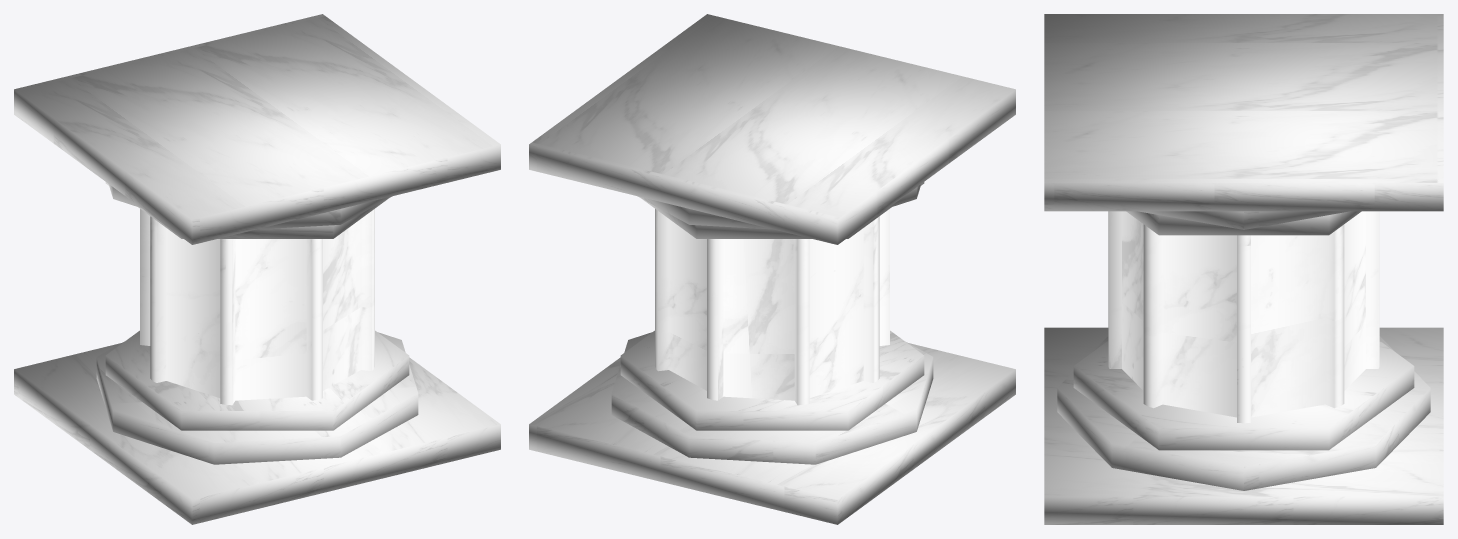
File: GreekPillar1.fbx
3 views of the same model, side by side, from view 1: azimuth 30°, elevation 25°; view 2: azimuth 150°, elevation 25°; view 3: azimuth 270°, elevation 25° (orthographic). The views are drawn at different scales.
Parts seen in each view (by area): view 1: Cube.001; view 2: Cube.001; view 3: Cube.001.
Part boxes in pixels (left/top/right/bottom): Cube.001: left=14, top=14, right=500, bottom=524; Cube.001: left=529, top=14, right=1015, bottom=524; Cube.001: left=1044, top=14, right=1443, bottom=524.
Size of the model in its own units: 320 by 302 by 320.
